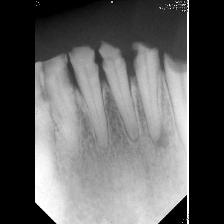apical_lesion: (132, 44, 177, 161)
